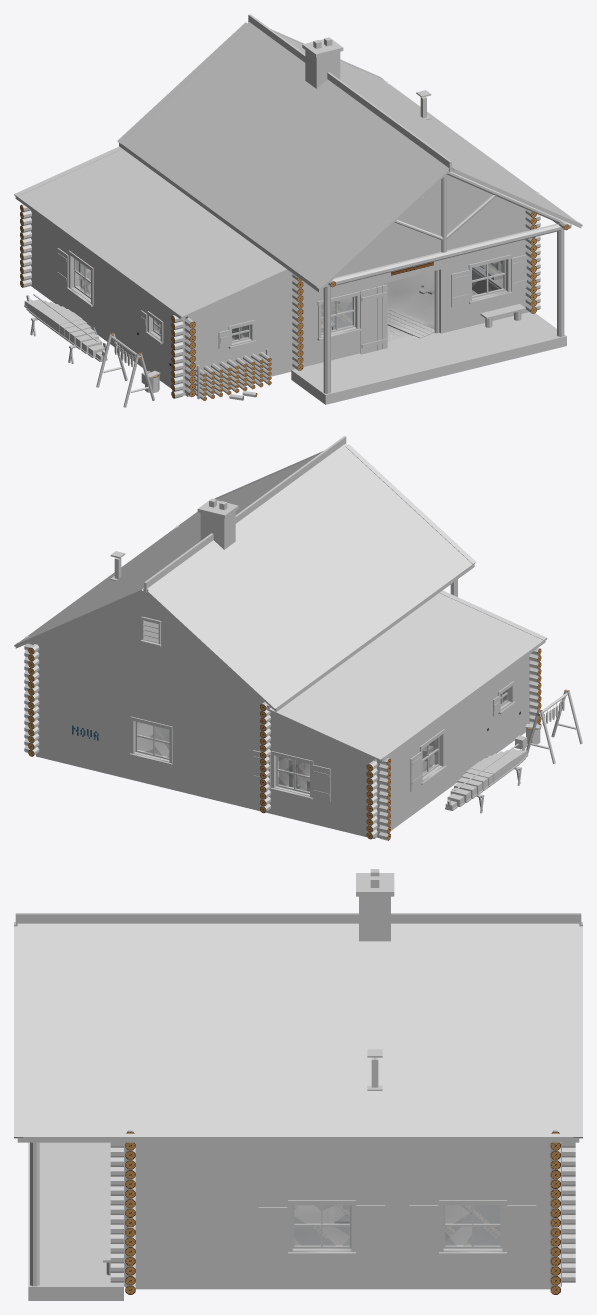
File: cabin_fisher.glb
3 views of the same model, one above another, from view 1: azimuth 30°, elevation 25°; view 2: azimuth 150°, elevation 25°; view 3: azimuth 270°, elevation 25° (orthographic). The views are drawn at different scales.
Visible parts, largest first — view 1: cabin_fisher; view 2: cabin_fisher; view 3: cabin_fisher.
Boxes of the visible parts, x1=… form: cabin_fisher: x1=14, y1=14, x2=582, y2=407; cabin_fisher: x1=14, y1=436, x2=582, y2=840; cabin_fisher: x1=14, y1=869, x2=582, y2=1300.
Bounding box in the file's own units: 15.81 × 8.92 × 13.38.
4 materials, 3 textured.
